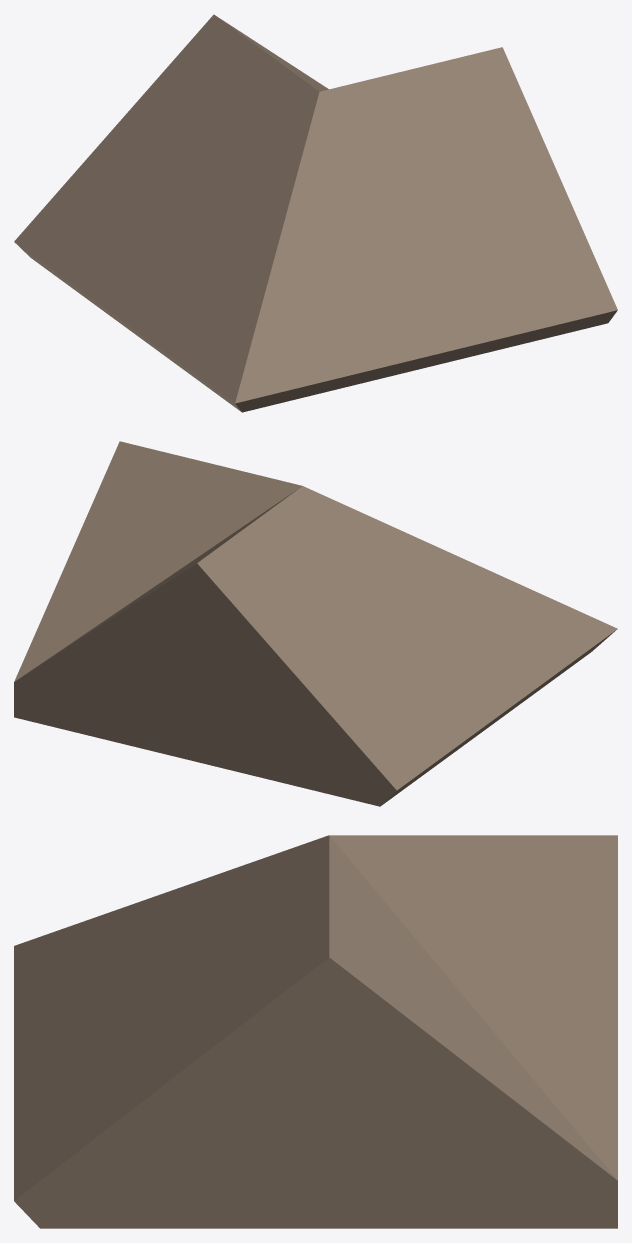
File: roof-gable-corner.obj
3 views of the same model, one above another, from view 1: azimuth 30°, elevation 25°; view 2: azimuth 150°, elevation 25°; view 3: azimuth 270°, elevation 25° (orthographic). The views are drawn at different scales.
Bounding box in the file's own units: 1.05 × 0.5188 × 1.05.
